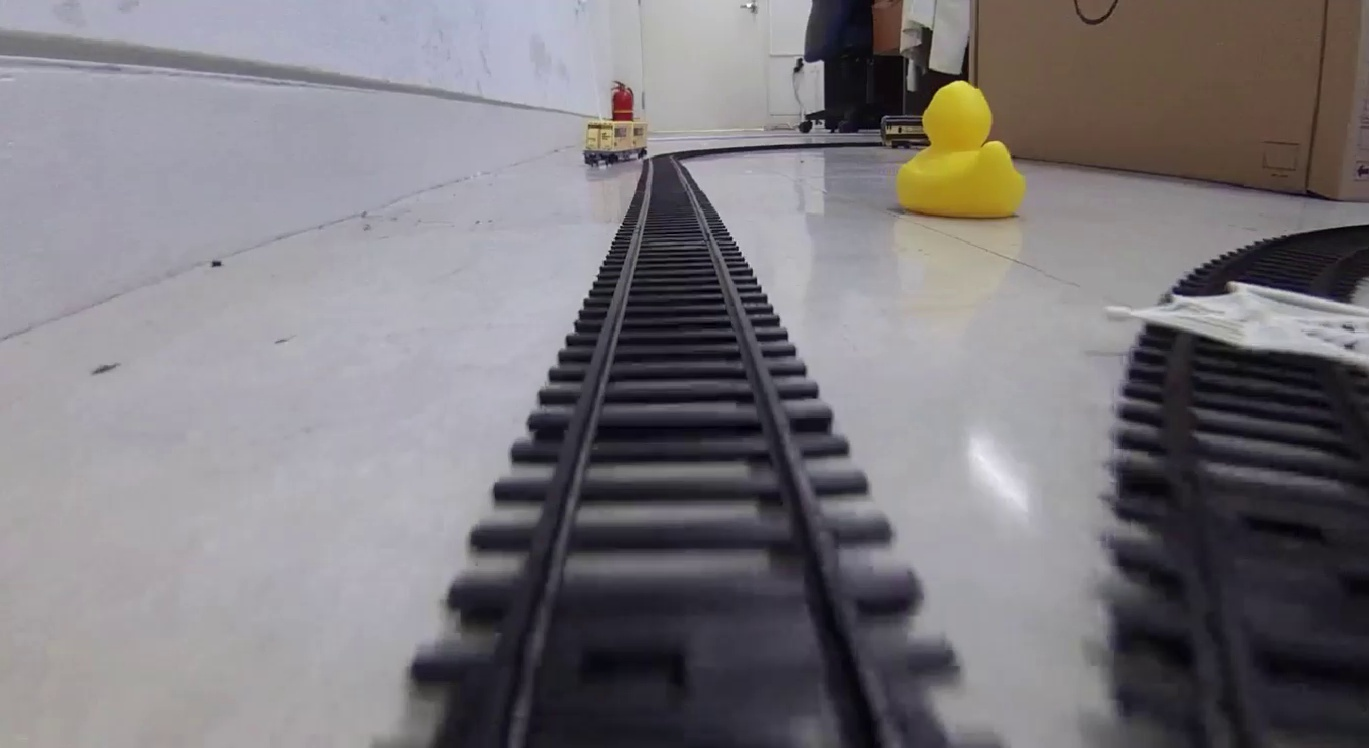web: (1109, 277, 1369, 361)
